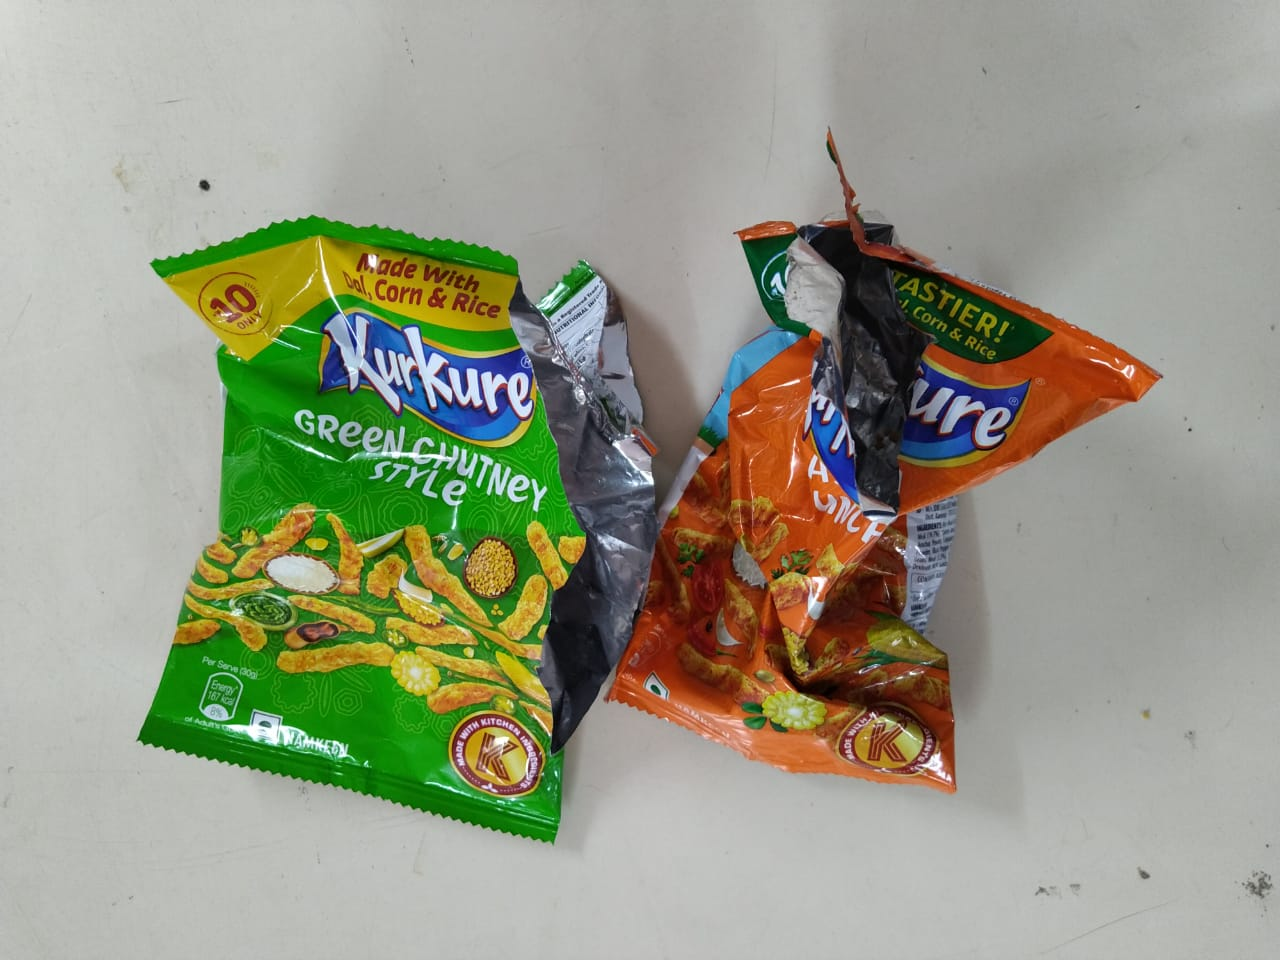kurkure: (315, 303, 641, 467), (777, 311, 1043, 471), (303, 303, 605, 417), (799, 291, 945, 507), (349, 327, 613, 443), (843, 313, 1029, 465)
plastic: (575, 207, 1145, 745), (121, 227, 673, 759)
